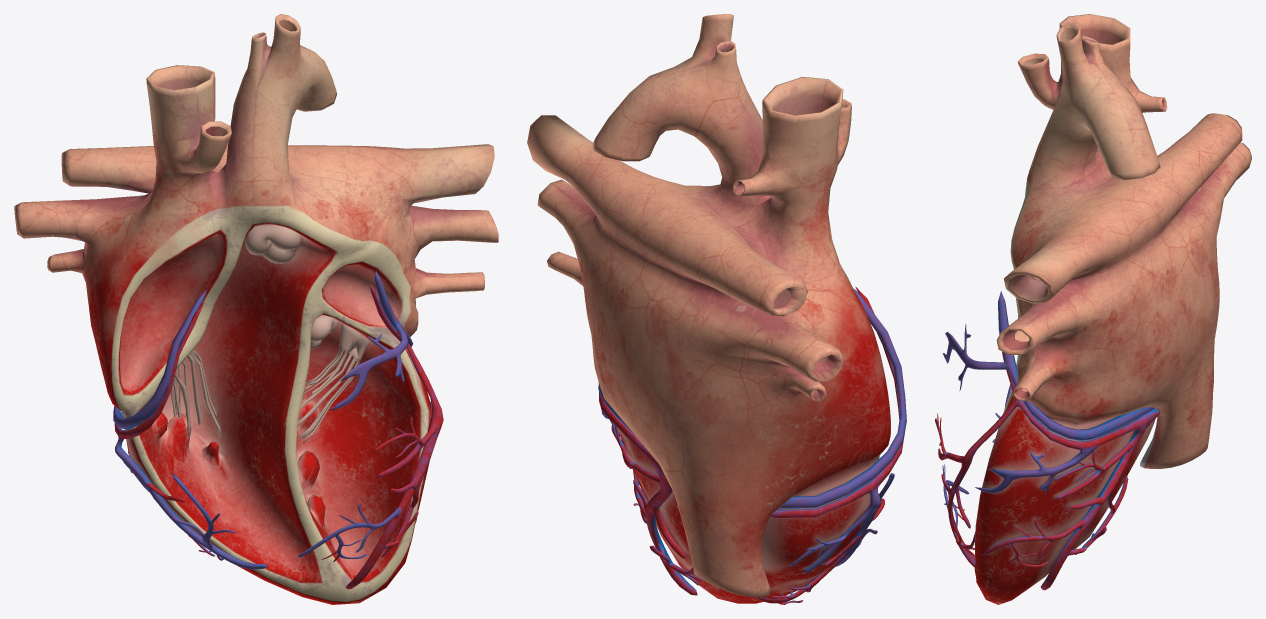
File: human_heart_cross_section_model.glb
3 views of the same model, side by side, from view 1: azimuth 30°, elevation 25°; view 2: azimuth 150°, elevation 25°; view 3: azimuth 270°, elevation 25° (orthographic). The views are drawn at different scales.
Visible parts, largest first — view 1: headusOBJexport; view 2: headusOBJexport; view 3: headusOBJexport.
Part boxes in pixels (<box>): headusOBJexport: <box>14,14,498,604</box>; headusOBJexport: <box>527,14,906,604</box>; headusOBJexport: <box>935,14,1251,604</box>.
Size of the model in its own units: 0.0708 by 0.1016 by 0.052.
1 material, 1 textured.
